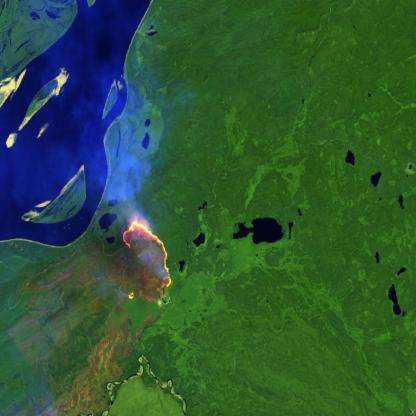fire: (119, 220, 176, 308)
